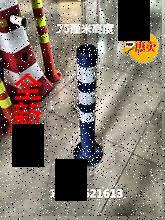bench: (71, 43, 104, 168)
